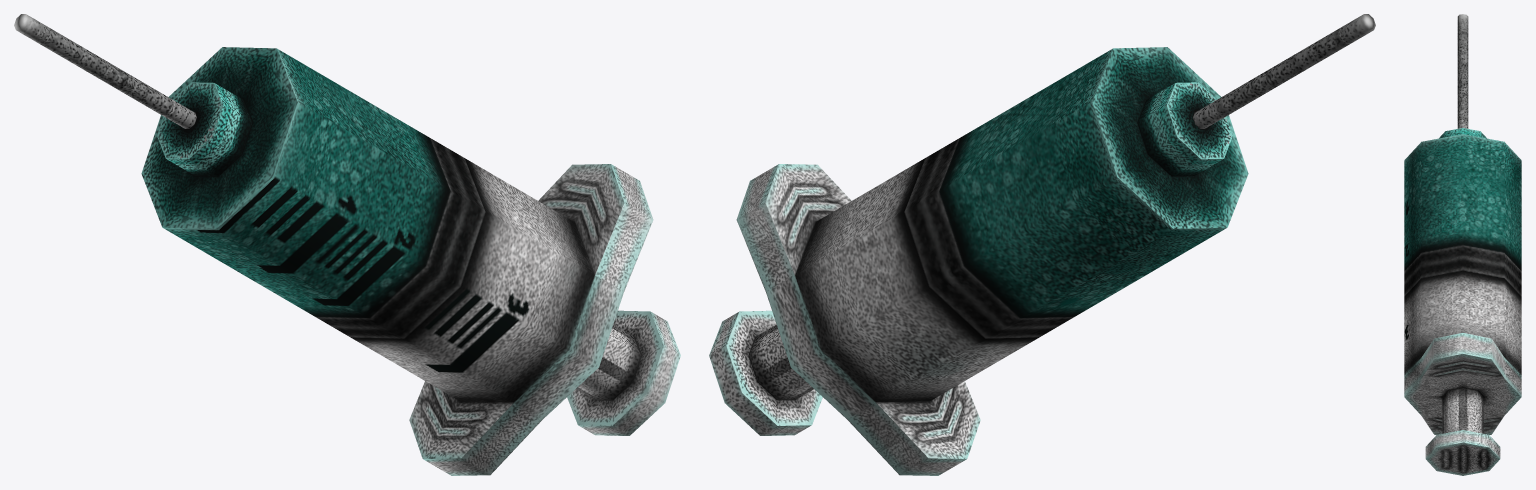
File: BACK_CHIBI_SYRINGE.fbx
The picture shows the model from 3 angles, left to right: view 1: azimuth 30°, elevation 25°; view 2: azimuth 150°, elevation 25°; view 3: azimuth 270°, elevation 25°; orthographic projection. The views are drawn at different scales.
Visible parts, largest first — view 1: BACK_CHIBI_SYRINGE; view 2: BACK_CHIBI_SYRINGE; view 3: BACK_CHIBI_SYRINGE.
Part boxes in pixels (box(x1,y1,x2,y2)): BACK_CHIBI_SYRINGE: box(14, 14, 680, 475); BACK_CHIBI_SYRINGE: box(709, 14, 1375, 475); BACK_CHIBI_SYRINGE: box(1404, 14, 1521, 475).
Bounding box in the file's own units: 0.0443 × 0.0368 × 0.0125.
